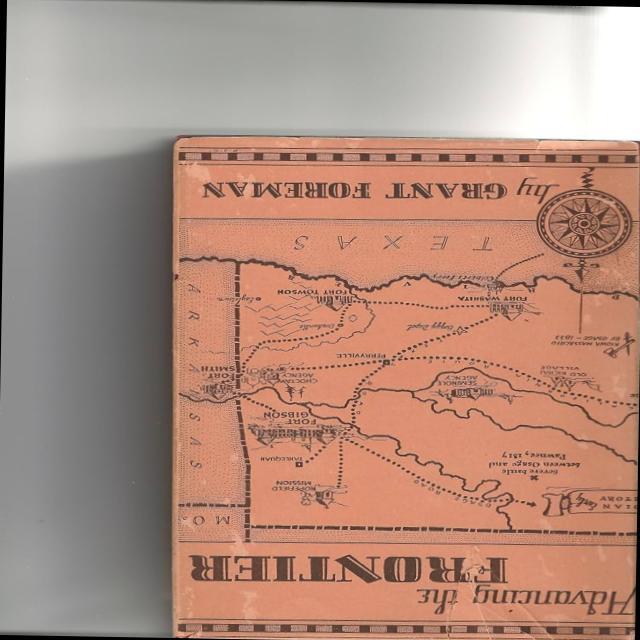notebook: (131, 52, 640, 640)
